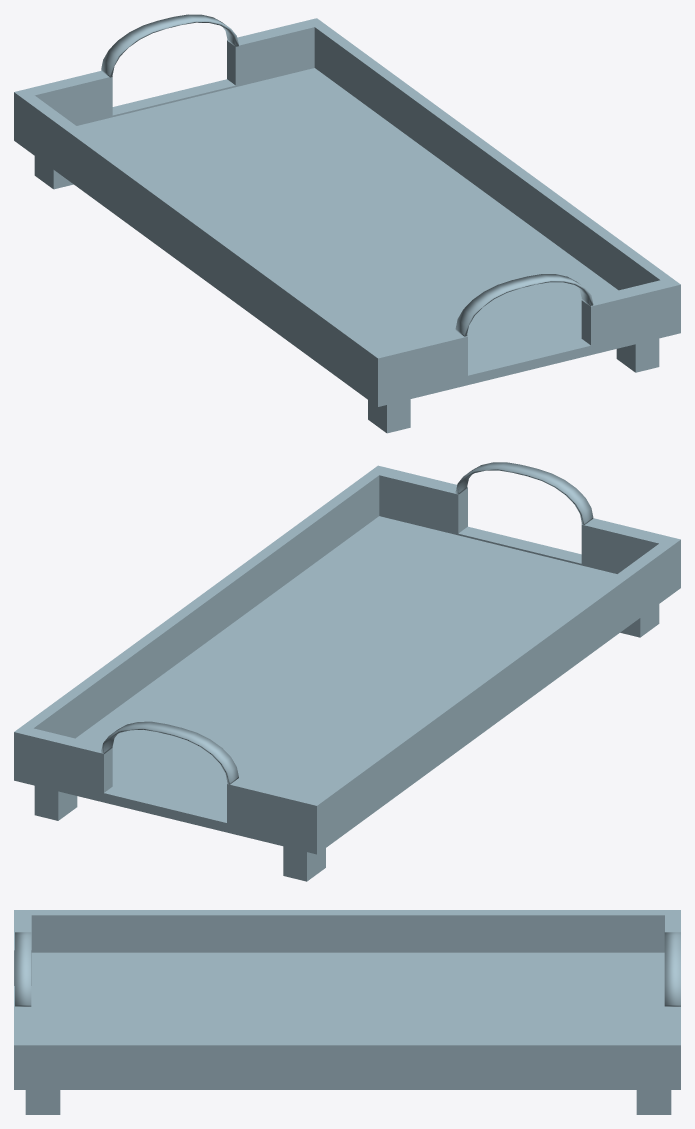
Rendered from Tray.fbx.
3 renders of one model, top to bottom at view 1: azimuth 30°, elevation 25°; view 2: azimuth 150°, elevation 25°; view 3: azimuth 270°, elevation 25°, orthographic. The views are drawn at different scales.
Visible parts, largest first — view 1: Tray; view 2: Tray; view 3: Tray.
Part boxes in pixels (x1=…): Tray: x1=14, y1=14, x2=680, y2=433; Tray: x1=14, y1=462, x2=680, y2=881; Tray: x1=14, y1=910, x2=680, y2=1114.
Bounding box in the file's own units: 20 × 7.56 × 41.62.
